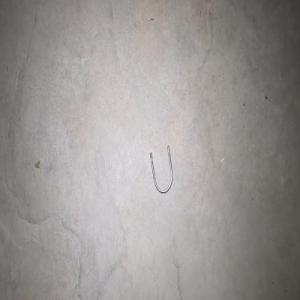ClampPart: (149, 144, 173, 194)
